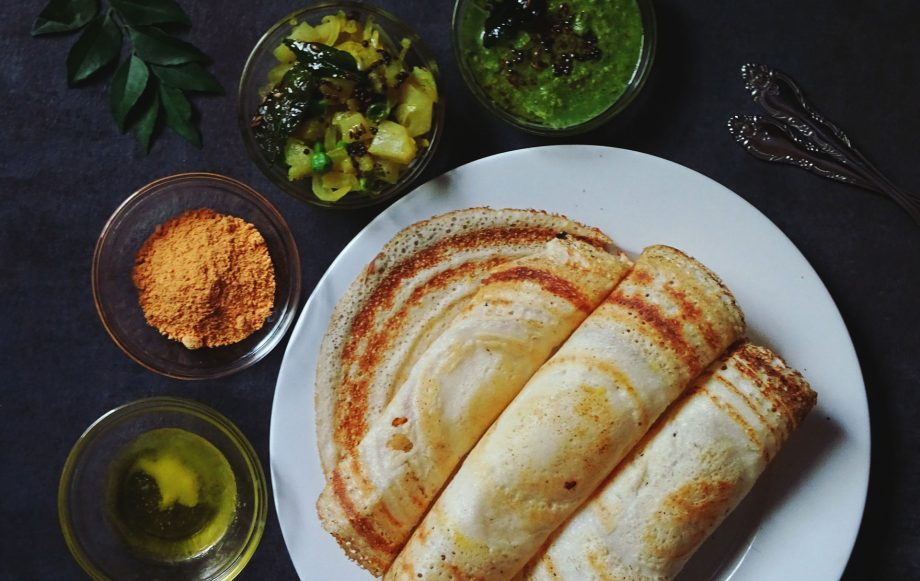dosa: (315, 210, 817, 581)
